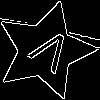V: (20, 25, 77, 83)
